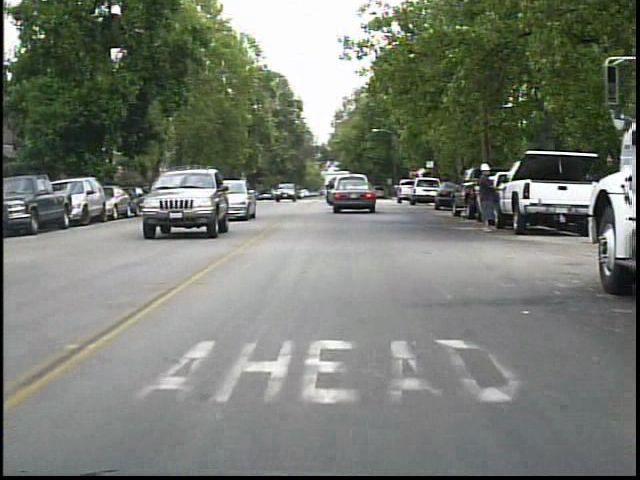person: (473, 159, 504, 236)
